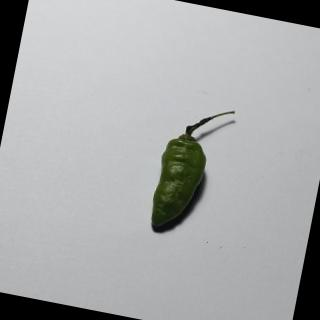Cabai Hijau: (141, 94, 243, 247)
